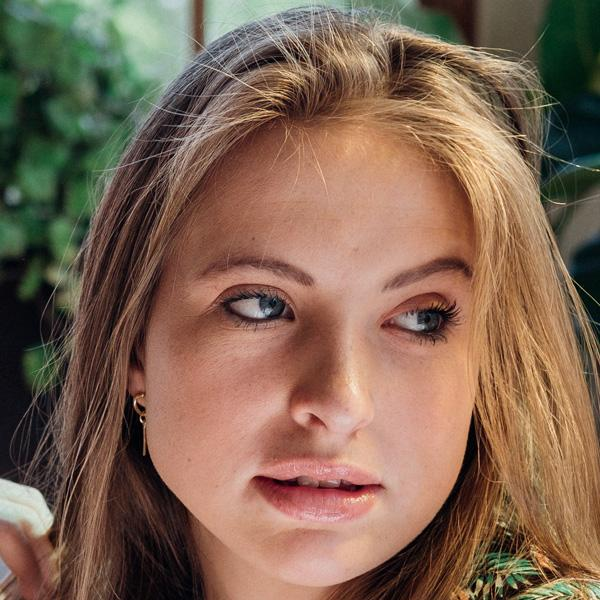Eyes: (376, 286, 458, 355), (212, 274, 304, 335)
